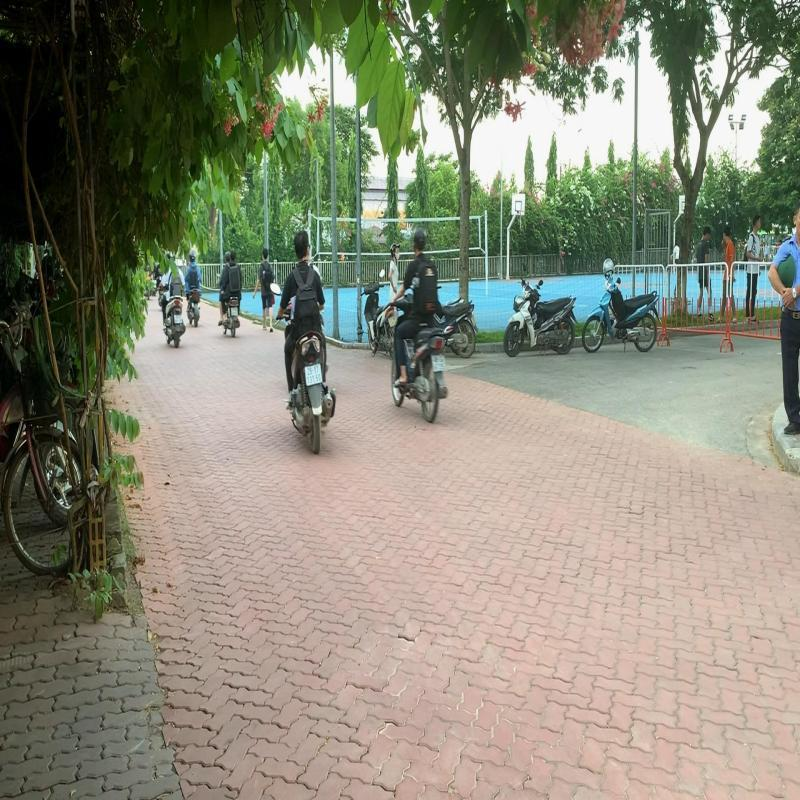nohelmet: (292, 228, 314, 262)
